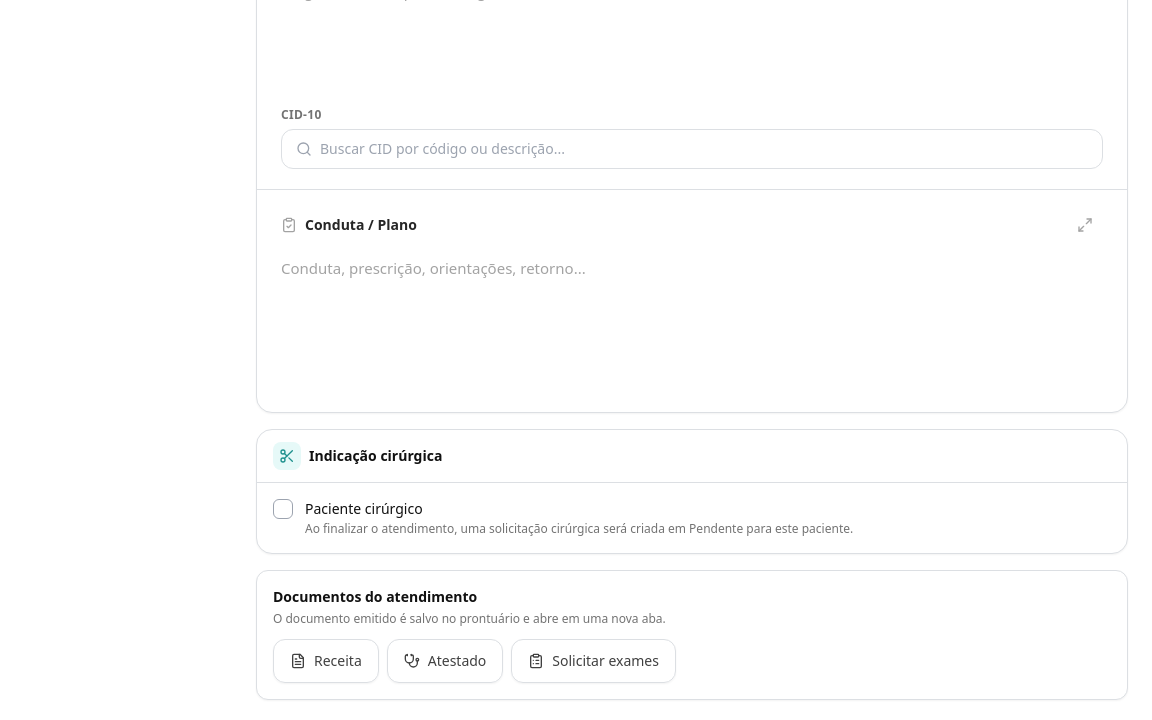
Scenario: AtendimentoTabs › esconde o link da SC para quem não tem a permissão Solicitações
(page scrolled)
Click the checkbox named "Paciente cirúrgico" at x=283, y=509, box left=273, top=499, right=293, bottom=519
(page scrolled)
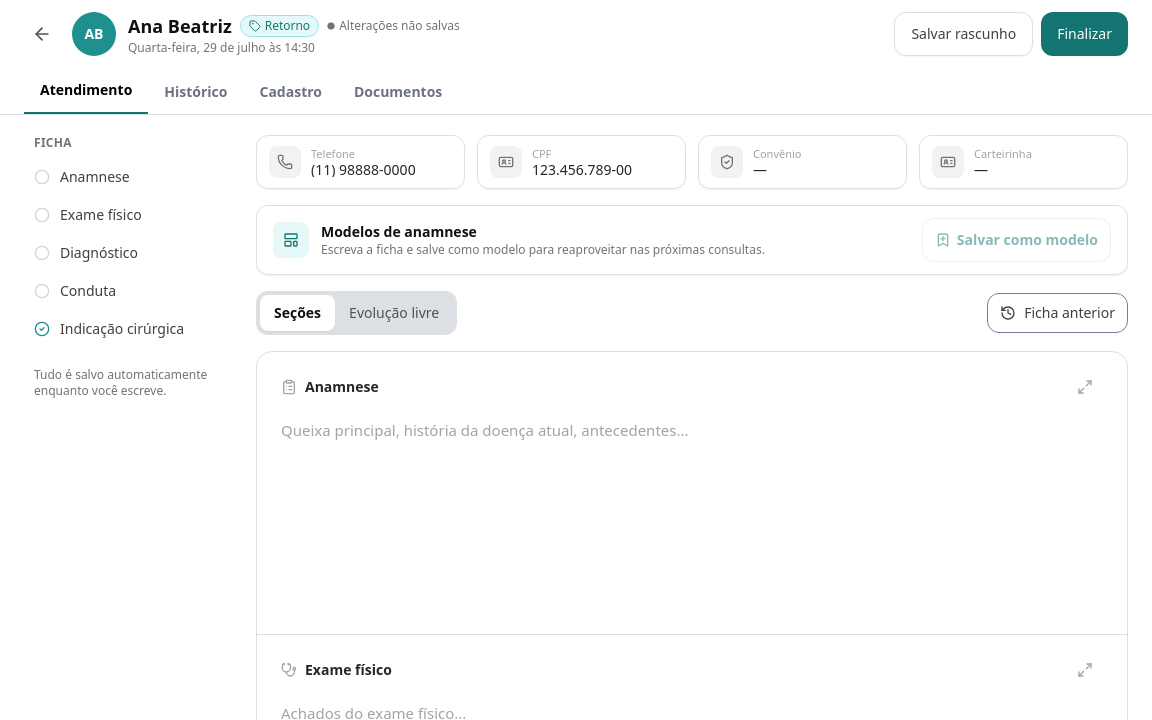
Click the button "Finalizar" at x=1085, y=34, box left=1041, top=12, right=1128, bottom=56
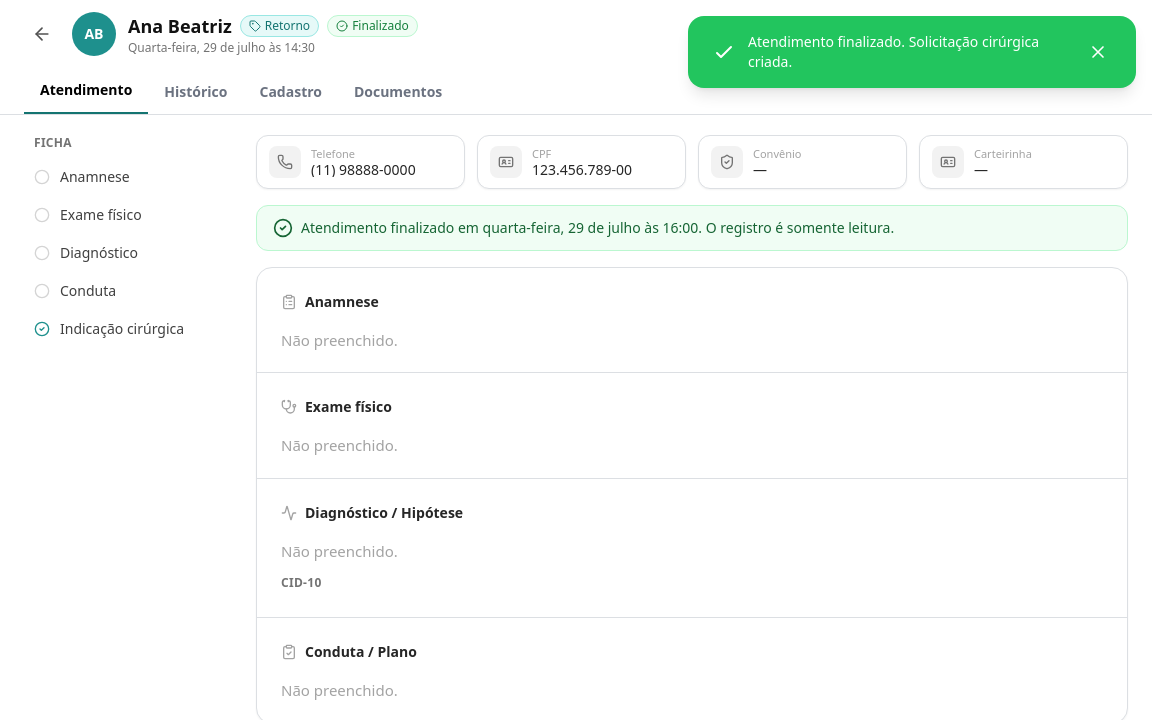
Now the text "Atendimento finalizado. Solicitação cirúrgica criada." is shown, box left=748, top=32, right=1072, bottom=72
